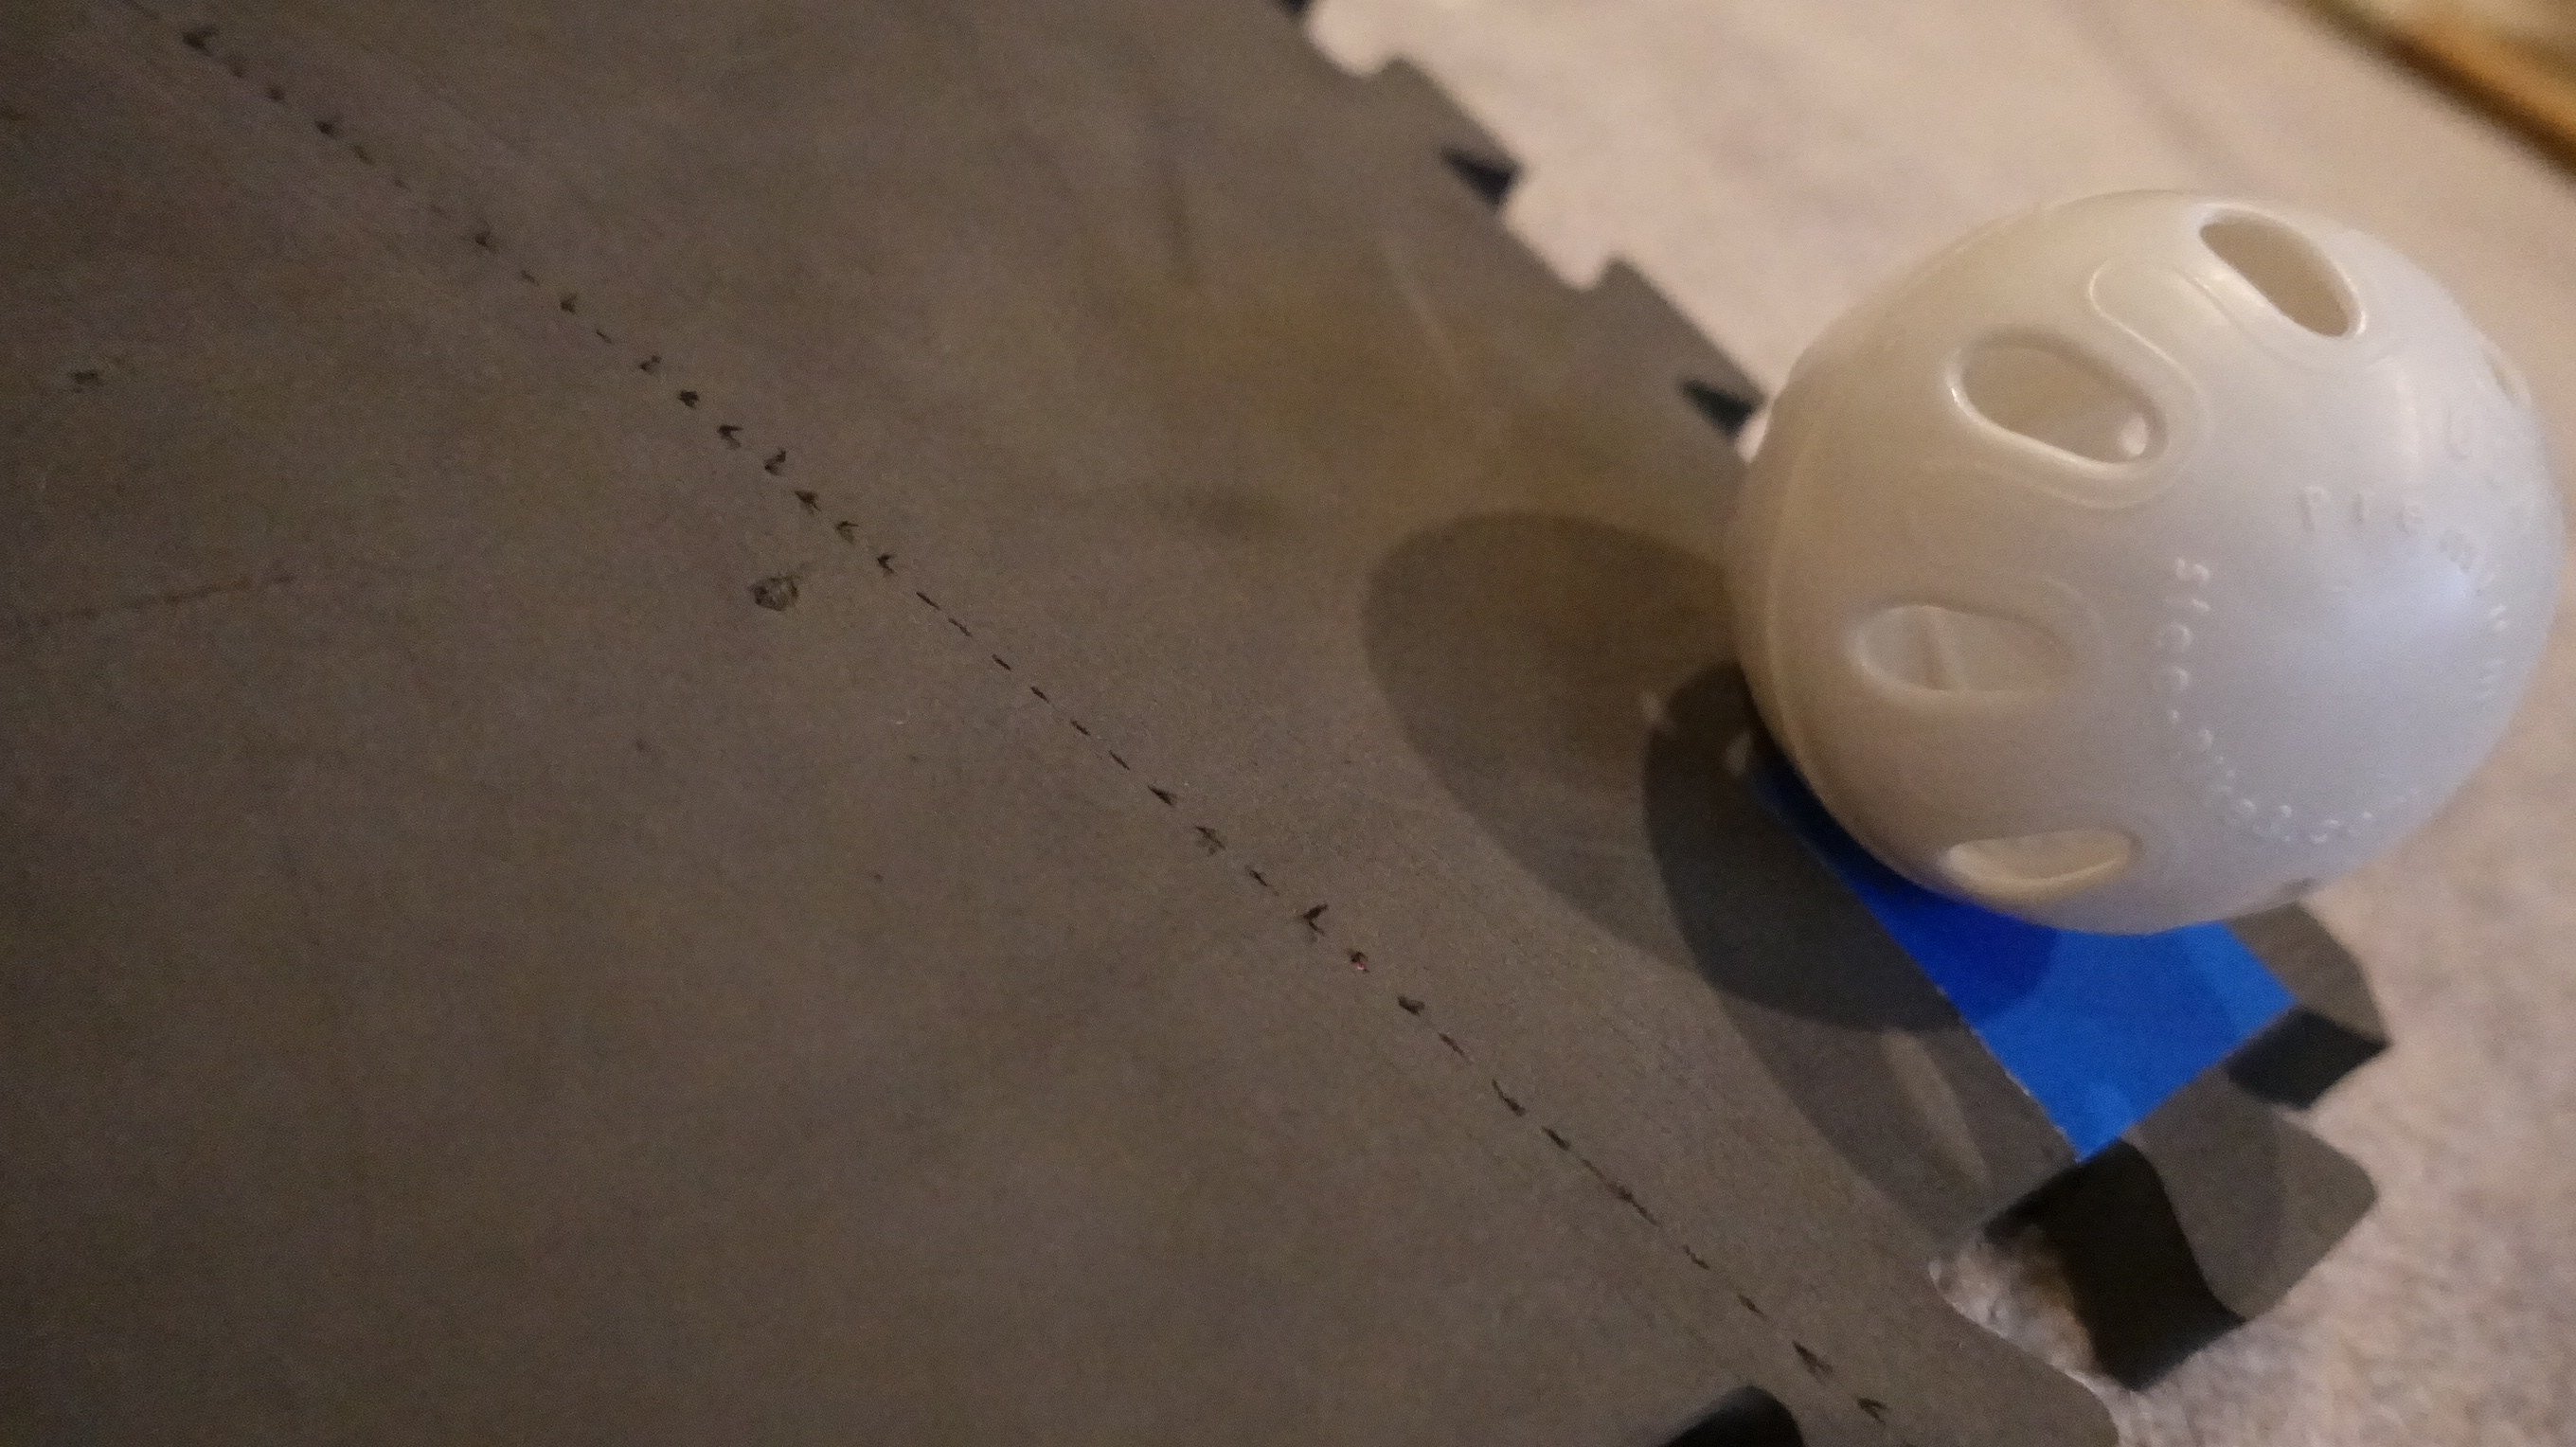silver: (1706, 143, 2576, 959)
